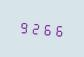nine: (18, 17, 28, 35)
six: (40, 19, 50, 37), (51, 20, 61, 38)
two: (29, 18, 39, 36)
